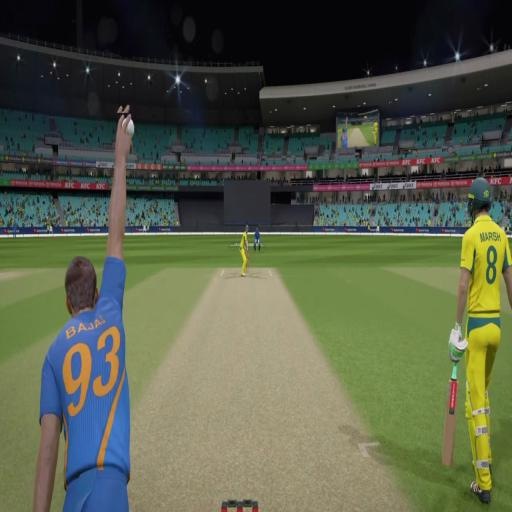ball: (123, 117, 134, 137)
